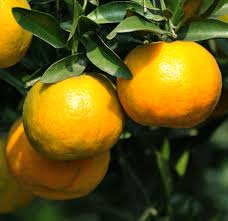orange: (114, 39, 223, 128), (5, 118, 111, 201), (20, 76, 126, 155)
